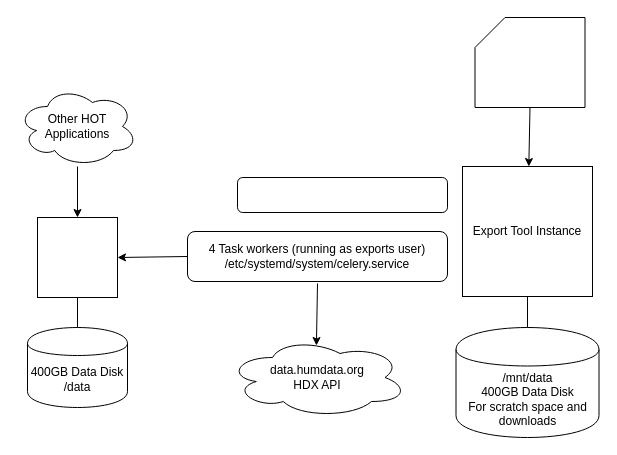
Some shapes in this 617 by 455 pixel diagram are drawn without their labels. Each missing label, with the centre of its shape:
"Django (running as exports user) /etc/systemd/system/django.service" goes at point (342, 194).
"HOTOSM Overpass Instance" goes at point (77, 257).
"React UI" goes at point (529, 62).
